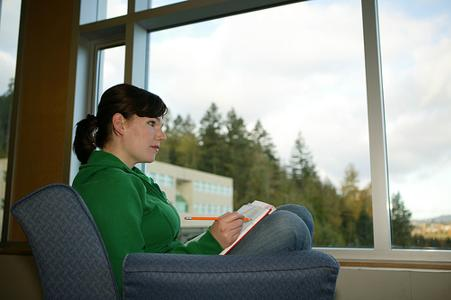person: (71, 83, 315, 290)
